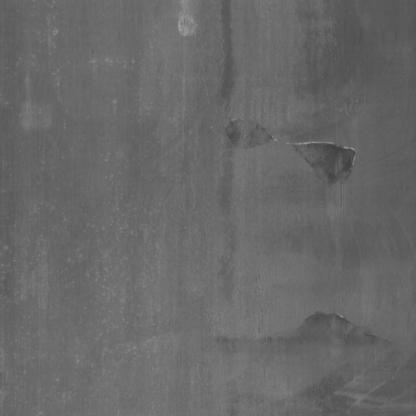rolled_pit: (292, 131, 358, 204), (213, 106, 275, 155)
